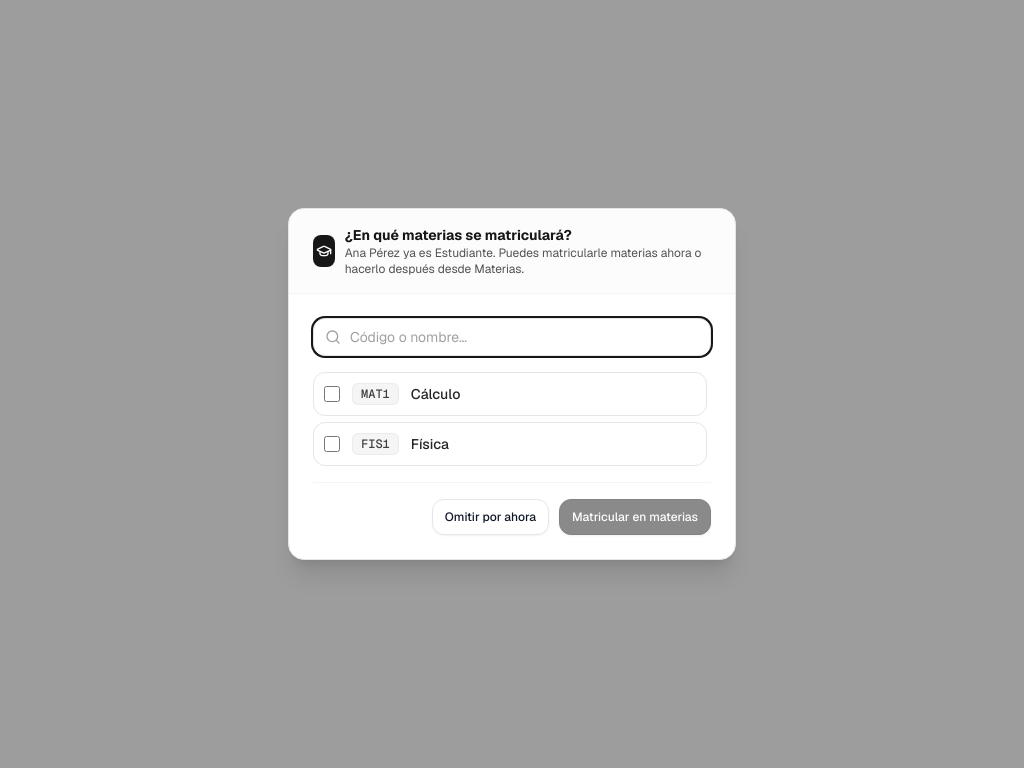
Test: EnrollSubjectsDialog › maps a partial outcome (enrolled) to a toast and keeps the dialog open
This screenshot has width=1024, height=768.
Expected: the text "Cálculo" is shown, [411, 384, 460, 404]
What coordinates should you click on to do the following:
click the checkbox labelled "MAT1 Cálculo"
I would click on:
 (332, 394)
Its box is [324, 386, 340, 402].
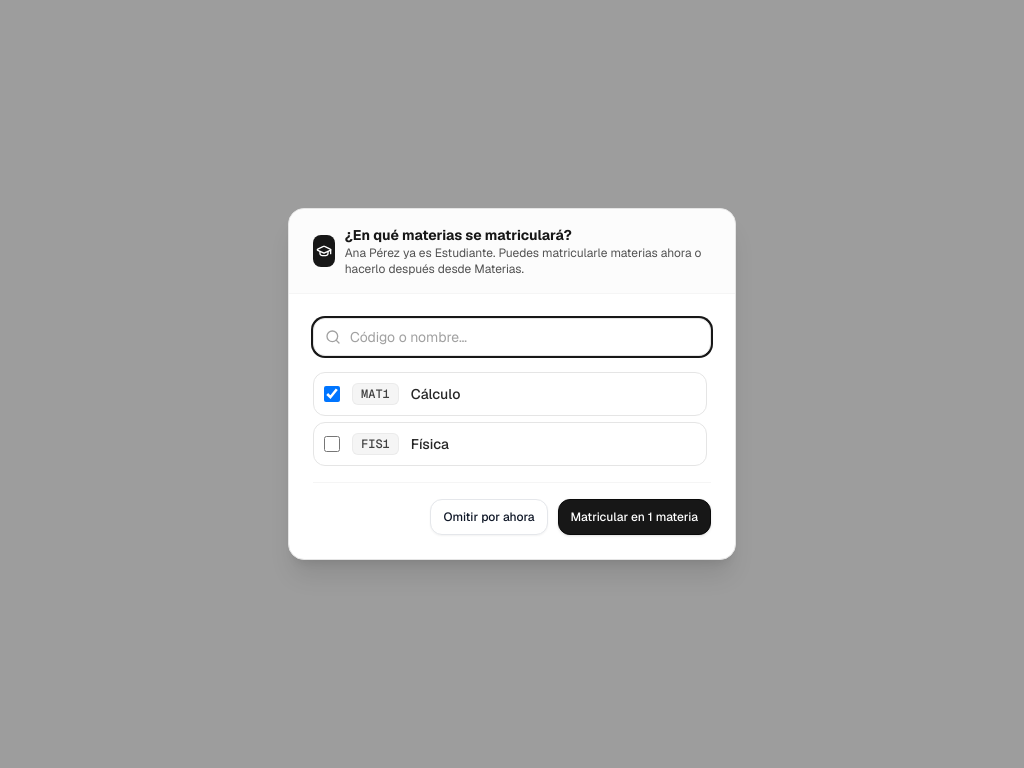
What coordinates should you click on to do the following:
click the checkbox labelled "FIS1 Física"
I would click on:
 (332, 444)
Its box is [324, 436, 340, 452].
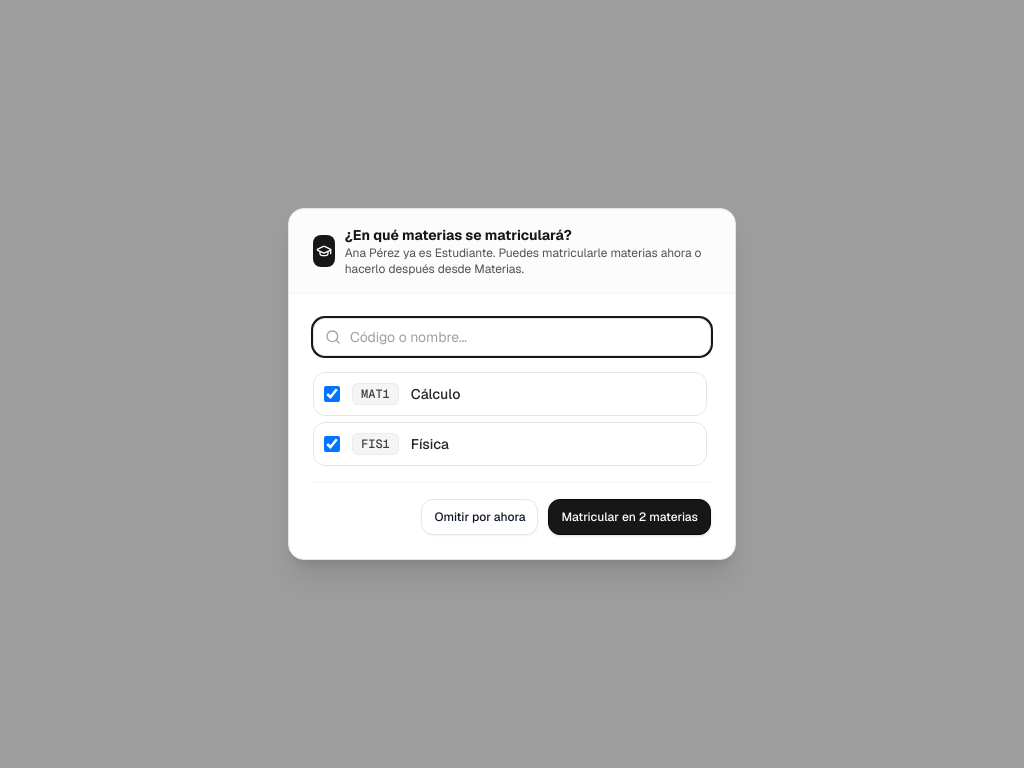
What coordinates should you click on to do the following:
click the button "Matricular en 2 materias"
I would click on:
 (630, 517)
Its box is [548, 499, 711, 535].
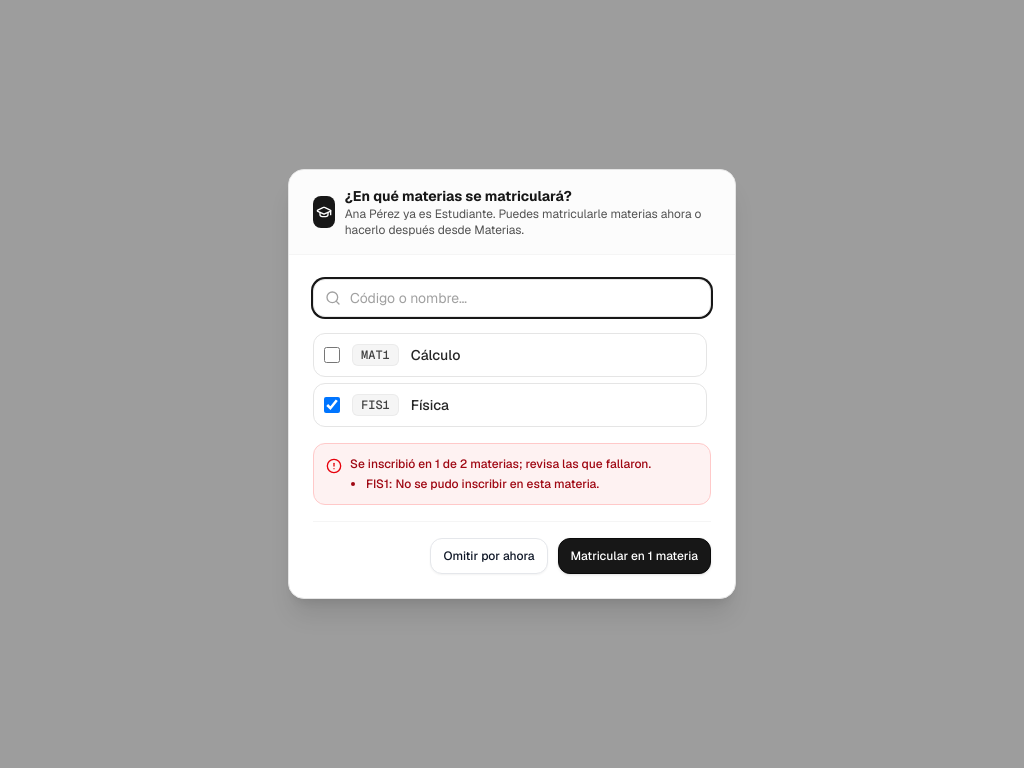
Expected: the list item "FIS1: No se pudo inscribir en esta materia." is shown, [366, 476, 599, 492]
